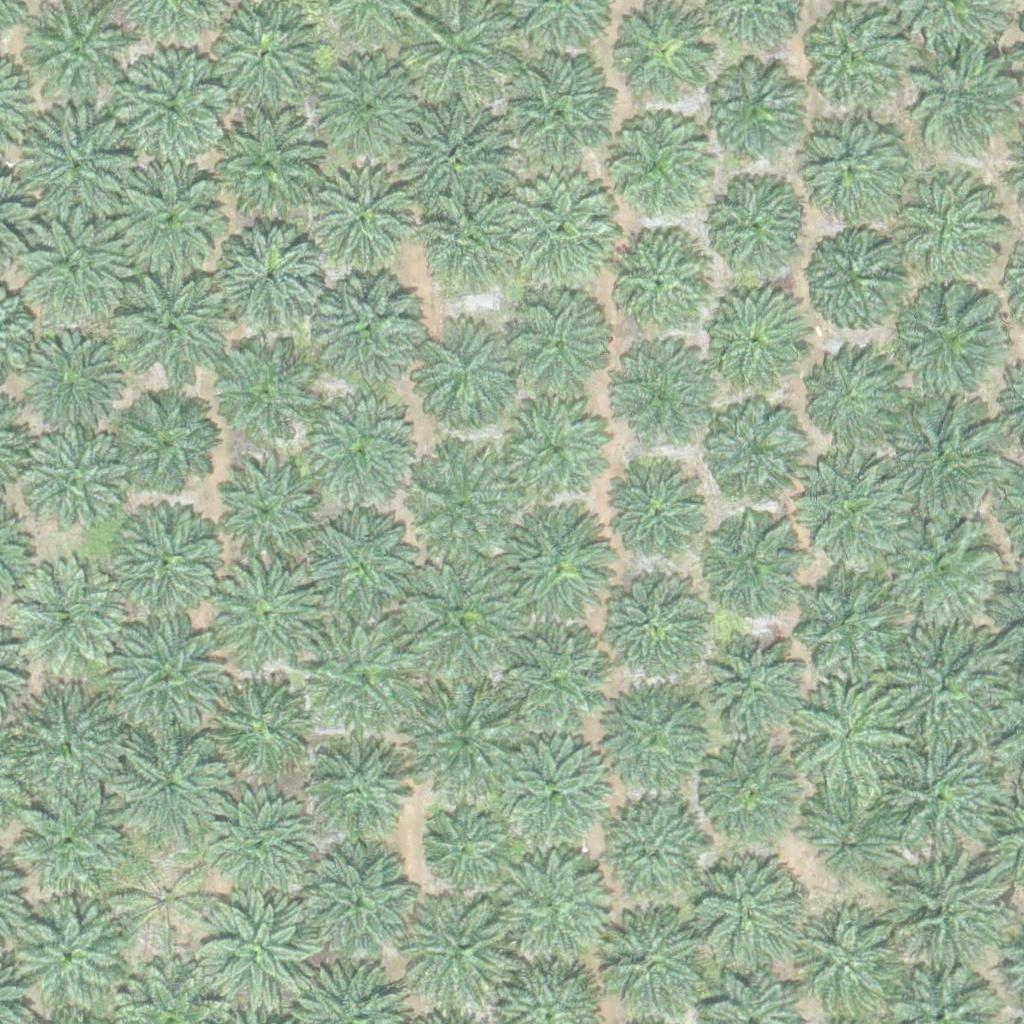Kelapa_Sawit: (493, 172, 618, 298), (881, 627, 1006, 753), (489, 624, 614, 750), (403, 681, 528, 807), (875, 848, 1000, 973), (794, 106, 907, 220), (503, 394, 616, 508), (407, 316, 520, 430), (496, 507, 609, 621), (404, 893, 517, 1007), (208, 556, 321, 670), (303, 846, 416, 960), (397, 99, 510, 212), (306, 164, 419, 277), (19, 111, 132, 224), (18, 219, 131, 332), (112, 162, 225, 275), (798, 453, 911, 566), (404, 451, 517, 564), (217, 456, 330, 569), (110, 502, 223, 615), (116, 277, 229, 390), (12, 322, 125, 435), (883, 513, 996, 626), (695, 742, 808, 855), (690, 864, 803, 977), (597, 572, 710, 685), (598, 685, 711, 798), (16, 903, 129, 1016), (12, 786, 125, 899), (6, 688, 119, 801), (306, 616, 419, 729), (501, 283, 613, 397), (313, 271, 425, 385), (12, 557, 124, 671), (112, 617, 224, 731), (207, 794, 319, 908), (896, 169, 1008, 282), (606, 232, 718, 345), (603, 112, 715, 225), (501, 50, 613, 163), (213, 114, 325, 227), (118, 49, 230, 162), (216, 227, 328, 340), (886, 397, 998, 510), (600, 341, 712, 454), (208, 344, 320, 457), (304, 405, 416, 518), (308, 507, 420, 620), (21, 431, 133, 544), (885, 738, 997, 851), (795, 572, 907, 685), (596, 803, 708, 916), (497, 739, 609, 852), (496, 850, 608, 963), (405, 561, 517, 674), (114, 729, 226, 842), (200, 891, 312, 1004), (898, 284, 1010, 397), (115, 851, 215, 952), (908, 50, 1008, 151), (804, 5, 904, 106), (317, 55, 417, 156), (803, 347, 903, 448), (703, 287, 803, 388), (709, 397, 809, 498), (118, 394, 218, 495), (798, 689, 898, 790), (804, 783, 904, 884), (698, 519, 798, 620), (709, 636, 809, 737), (815, 227, 915, 327), (704, 60, 804, 160), (705, 179, 805, 279), (620, 3, 720, 103), (611, 468, 711, 568), (210, 678, 310, 778), (309, 736, 409, 836), (423, 812, 498, 888), (426, 203, 501, 278)
